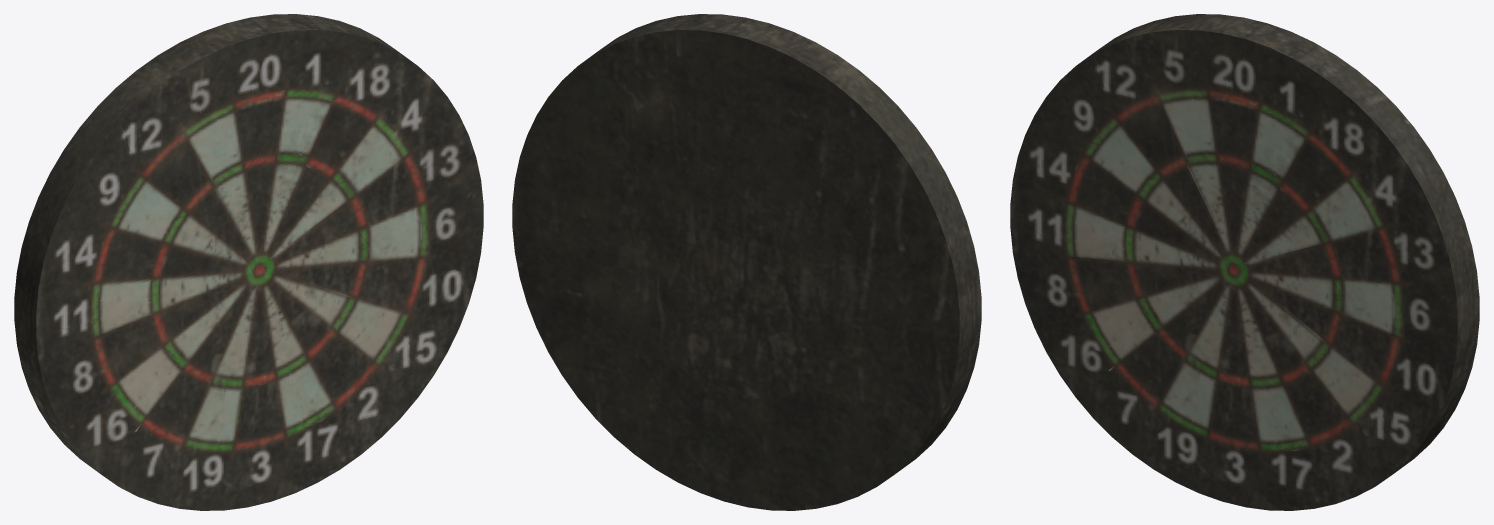
File: dartboard.glb
The picture shows the model from 3 angles, left to right: view 1: azimuth 30°, elevation 25°; view 2: azimuth 150°, elevation 25°; view 3: azimuth 330°, elevation 25°; orthographic projection.
Visible parts, largest first — view 1: mesh; view 2: mesh; view 3: mesh.
Part boxes in pixels (left/top/right/bottom): mesh: left=14, top=14, right=483, bottom=510; mesh: left=512, top=14, right=981, bottom=510; mesh: left=1010, top=14, right=1479, bottom=510.
Size of the model in its own units: 0.4507 by 0.4507 by 0.0392.
1 material, 1 textured.
